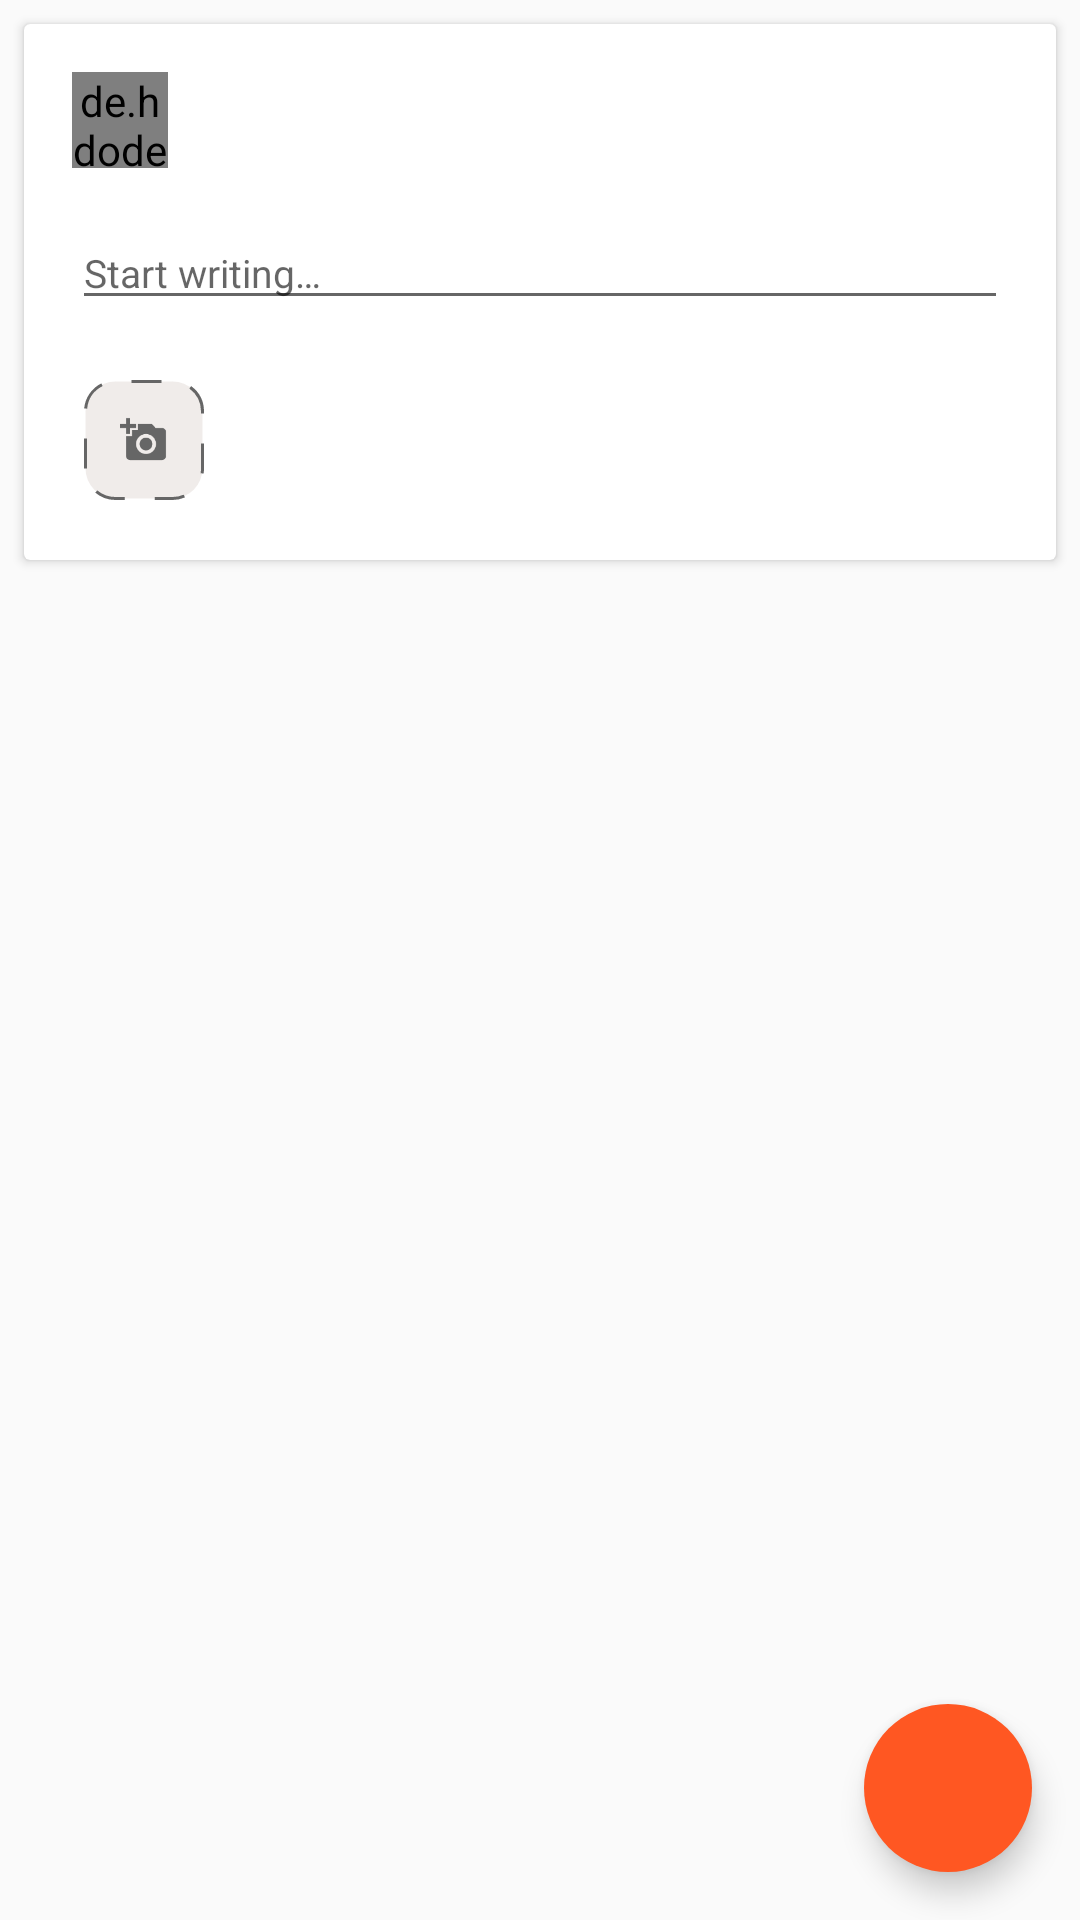

Icons on this 1080×1920 Android screen, each with the point to tap as (x=x, y=y):
Select photo button: (x=144, y=440)
